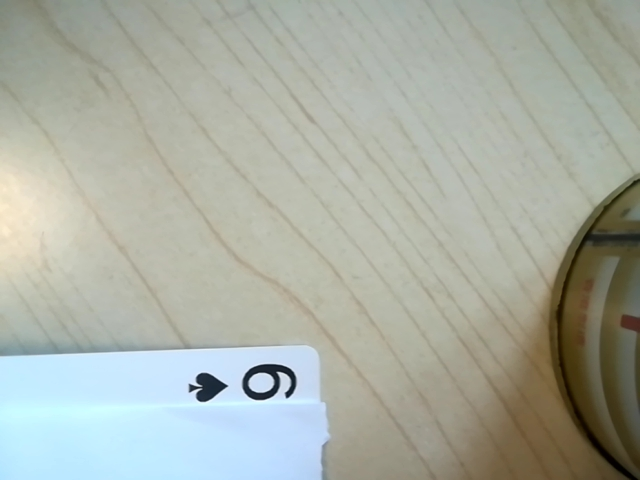ht 6: (173, 353, 316, 416)
